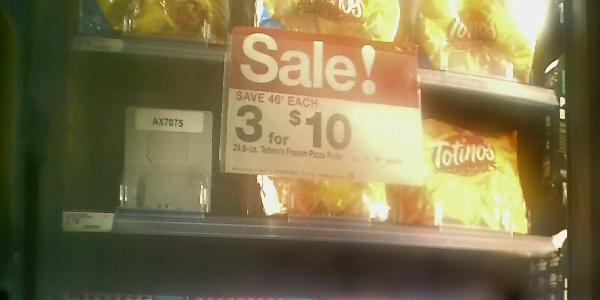icecream: (226, 31, 419, 218), (420, 109, 536, 232)
